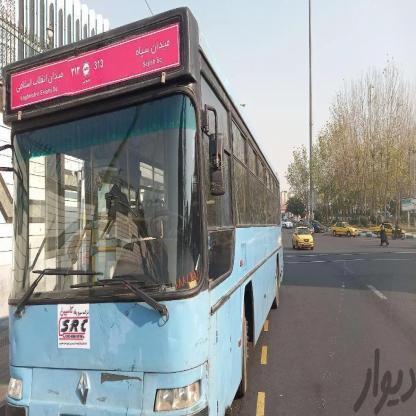Bus: (0, 5, 287, 416)
Car: (292, 226, 314, 255), (332, 221, 360, 239), (379, 219, 409, 234), (281, 217, 292, 230)
